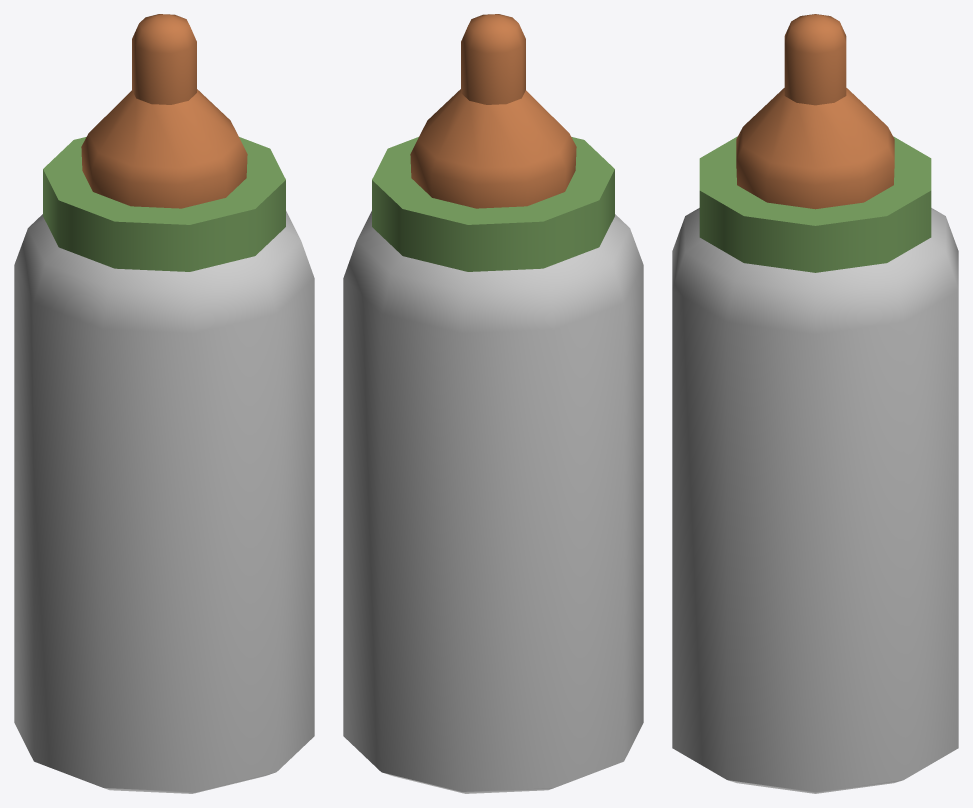
Rendered from MilkBottle_01.fbx.
The picture shows the model from 3 angles, left to right: view 1: azimuth 30°, elevation 25°; view 2: azimuth 150°, elevation 25°; view 3: azimuth 270°, elevation 25°; orthographic projection.
Visible parts, largest first — view 1: MilkBottle_01; view 2: MilkBottle_01; view 3: MilkBottle_01.
Boxes of the visible parts, left/top/right/bottom form: MilkBottle_01: left=14, top=14, right=314, bottom=793; MilkBottle_01: left=343, top=14, right=643, bottom=793; MilkBottle_01: left=672, top=14, right=958, bottom=793.
Size of the model in its own units: 0.071 by 0.187 by 0.0675.
